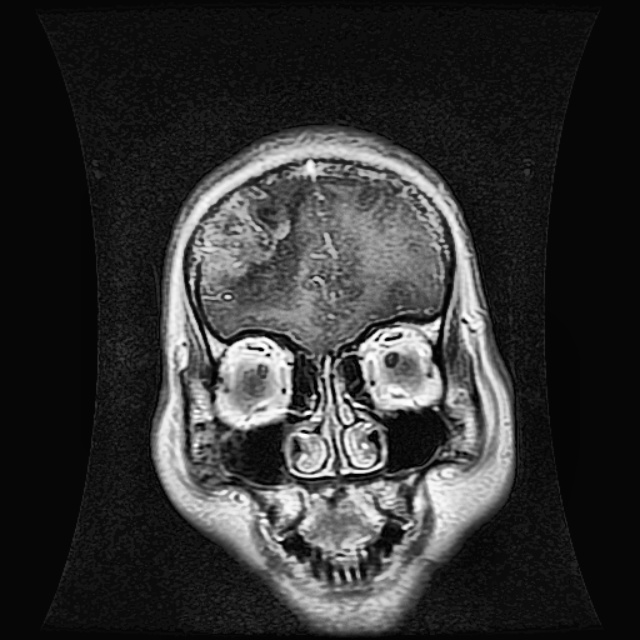Meningioma: (187, 180, 297, 302)
